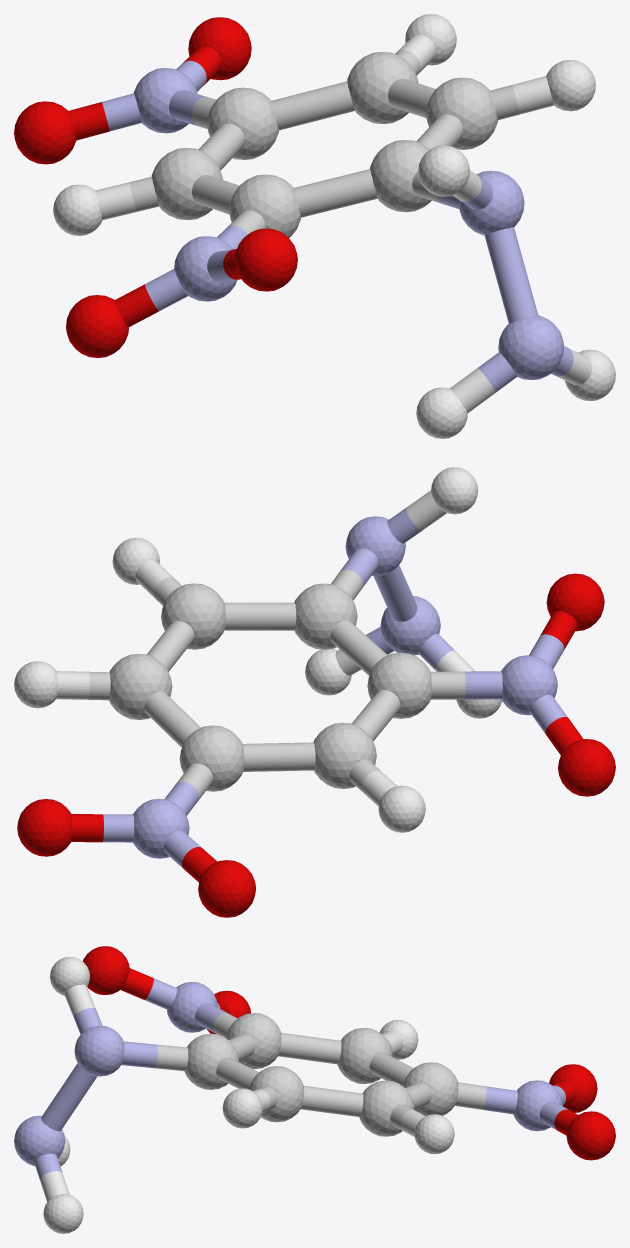
File: dinitro.fbx
3 renders of one model, top to bottom at view 1: azimuth 30°, elevation 25°; view 2: azimuth 150°, elevation 25°; view 3: azimuth 270°, elevation 25°, orthographic. The views are drawn at different scales.
Visible parts, largest first — view 1: dinitro; view 2: dinitro; view 3: dinitro.
Boxes of the visible parts, x1,y1,x2,y2 form: dinitro: (14,14,615,438); dinitro: (14,467,615,917); dinitro: (14,946,615,1233).
Size of the model in its own units: 5999 by 3044 by 7556.
